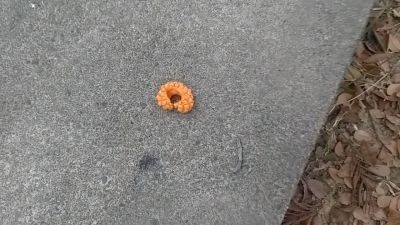eggs: (155, 79, 196, 113)
